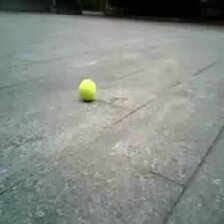tennis: (79, 81, 96, 99)
